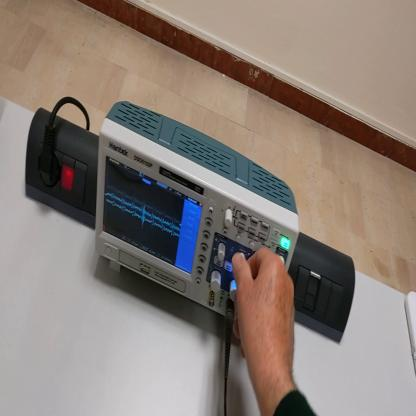hand: (232, 248, 298, 380)
oscilloscope: (94, 100, 298, 324)
socket: (24, 107, 99, 230)
